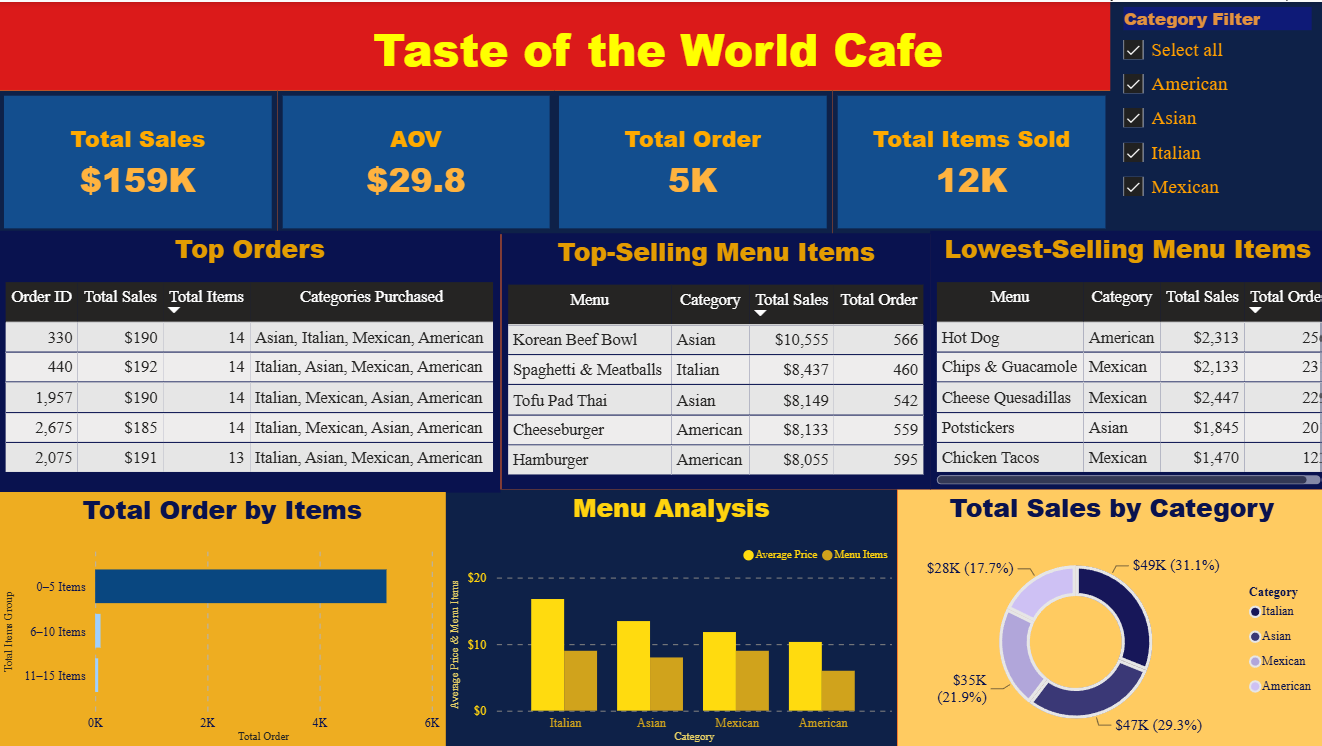

Layout of this report page (visuals, bound fields, positions):
{"tool":"powerbi","page":{"name":"Page 1","canvas":[1280,720],"ordinal":0},"visuals":[{"type":"shape","box":[0,0,1073.1,85.1],"z":0},{"type":"textbox","box":[0,9.6,1280.3,65.9],"z":1000},{"type":"cardVisual","fields":{"Data":["restaurant_order.AOV"]},"box":[269,85.1,267.6,138.6],"z":2000},{"type":"cardVisual","fields":{"Data":["restaurant_order.Total Order"]},"box":[535.2,85.1,269,138.6],"z":3000},{"type":"cardVisual","fields":{"Data":["restaurant_order.Total Sales"]},"box":[0,85.1,269,138.6],"z":4000},{"type":"cardVisual","fields":{"Data":["restaurant_order.Total Items Sold"]},"box":[804.1,85.1,269,138.6],"z":5000},{"type":"donutChart","title":"Total Sales by Category","fields":{"Category":["restaurant_order.category"],"Y":["restaurant_order.Total Sales"]},"box":[867.2,470.7,413,249.7],"z":6000},{"type":"tableEx","title":"Top-Selling Menu Items","fields":{"Values":["restaurant_order.item_name","restaurant_order.category","restaurant_order.Total Sales","restaurant_order.Total Order"]},"box":[484.4,223.7,414.4,247],"z":7000},{"type":"slicer","fields":{"Values":["restaurant_order.category"]},"box":[1073.1,0,207.2,223.7],"z":8000},{"type":"clusteredColumnChart","title":"Menu Analysis","fields":{"Category":["restaurant_order.category"],"Y":["Avg(restaurant_order.price)","Count(restaurant_order.menu_item_id)"]},"box":[430.9,470.7,436.4,249.7],"z":10000},{"type":"tableEx","title":"Lowest-Selling Menu Items","fields":{"Values":["restaurant_order.item_name","restaurant_order.category","restaurant_order.Total Sales","restaurant_order.Total Order"]},"box":[898.8,220.9,381.5,249.7],"z":11000},{"type":"tableEx","title":"Top Orders","fields":{"Values":["restaurant_order.order_id","restaurant_order.Total Sales","CountNonNull(restaurant_order.item_id)","restaurant_order.Categories Purchased"]},"box":[0,220.9,484.4,252.5],"z":12000},{"type":"clusteredBarChart","title":"Total Order by Items","fields":{"Category":["restaurant_order.Item Group"],"Y":["restaurant_order.Order Count"]},"box":[0,473.4,430.9,247],"z":13000}]}

Visuals, with their boxes in screenshot pixels (x1, y1, x2, y2), scaled from the page's 1280x720 canvas onto the 1322x746 screenshot:
shape: rect(0, 0, 1108, 88)
textbox: rect(0, 10, 1321, 78)
cardVisual - restaurant_order.AOV: rect(278, 88, 554, 232)
cardVisual - restaurant_order.Total Order: rect(553, 88, 831, 232)
cardVisual - restaurant_order.Total Sales: rect(0, 88, 278, 232)
cardVisual - restaurant_order.Total Items Sold: rect(830, 88, 1108, 232)
"Total Sales by Category" donutChart: rect(896, 488, 1321, 745)
"Top-Selling Menu Items" tableEx: rect(500, 232, 928, 488)
slicer - restaurant_order.category: rect(1108, 0, 1321, 232)
"Menu Analysis" clusteredColumnChart: rect(445, 488, 896, 745)
"Lowest-Selling Menu Items" tableEx: rect(928, 229, 1321, 488)
"Top Orders" tableEx: rect(0, 229, 500, 490)
"Total Order by Items" clusteredBarChart: rect(0, 490, 445, 745)
